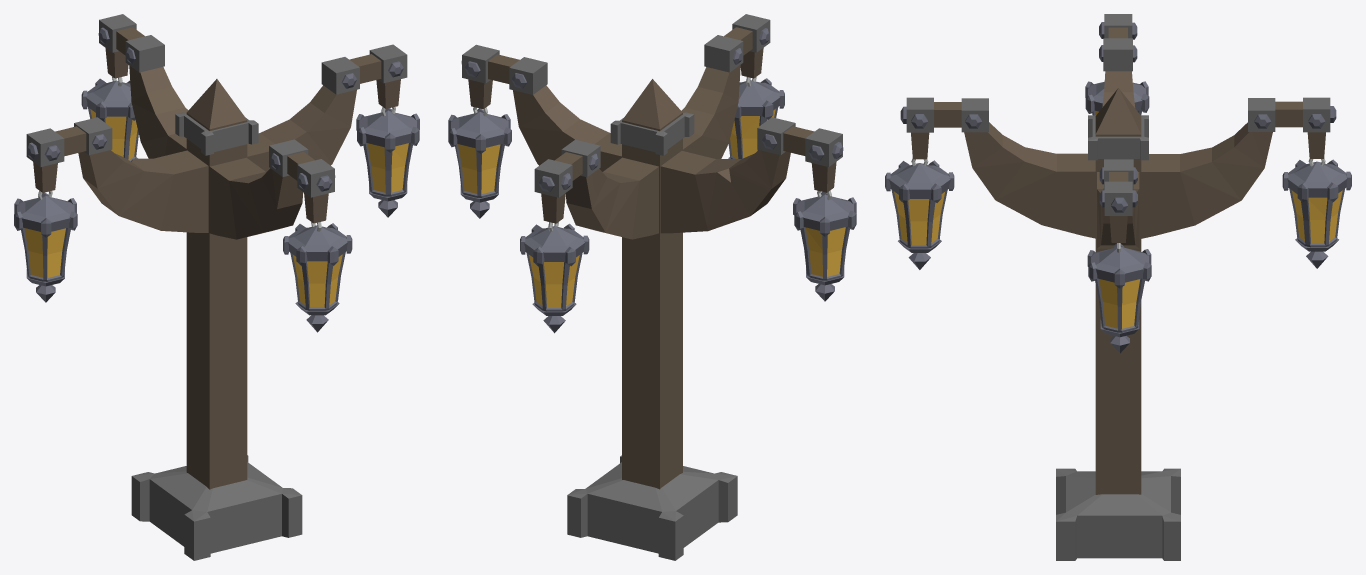
Rendered from Lamp_03.glb.
3 renders of one model, left to right at view 1: azimuth 30°, elevation 25°; view 2: azimuth 150°, elevation 25°; view 3: azimuth 270°, elevation 25°, orthographic.
Parts seen in each view (by area): view 1: Lamp_3; view 2: Lamp_3; view 3: Lamp_3.
Boxes of the visible parts, left/top/right/bottom form: Lamp_3: left=14, top=14, right=419, bottom=560; Lamp_3: left=448, top=14, right=856, bottom=560; Lamp_3: left=885, top=14, right=1351, bottom=560.
Bounding box in the file's own units: 3.72 × 3.94 × 3.72.
1 material, 1 textured.
